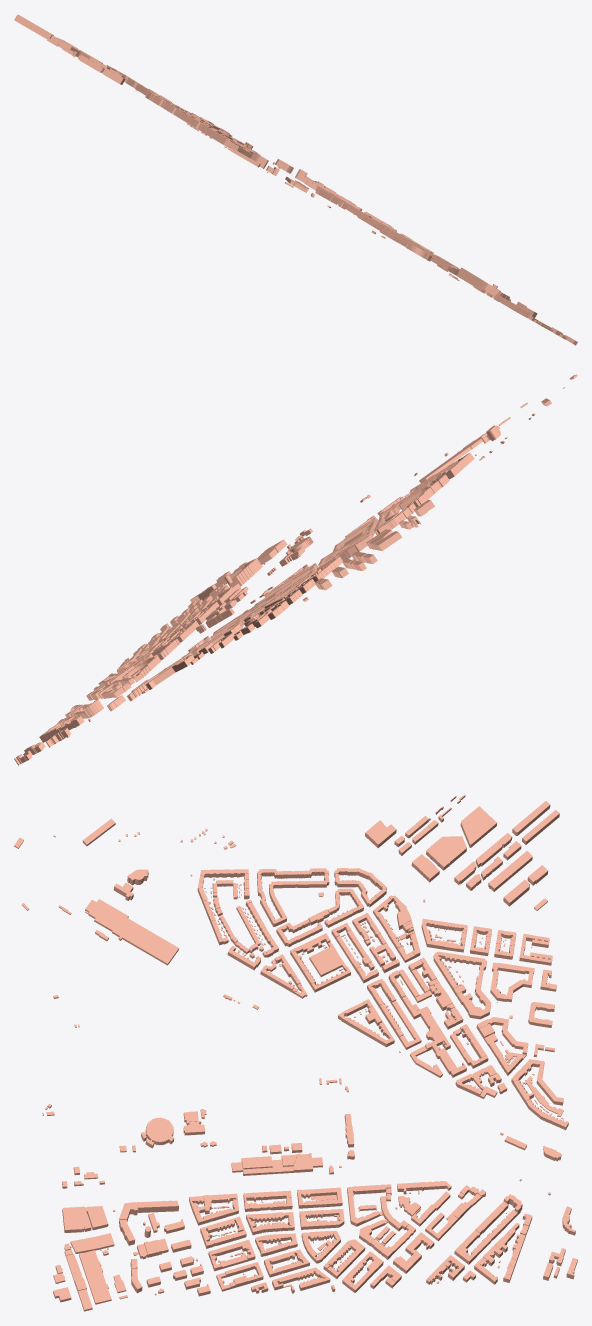
3 renders of one model, top to bottom at view 1: azimuth 30°, elevation 25°; view 2: azimuth 150°, elevation 25°; view 3: azimuth 270°, elevation 25°, orthographic. The views are drawn at different scales.
Bounding box in the file's own units: 1106 × 794 × 1291.
